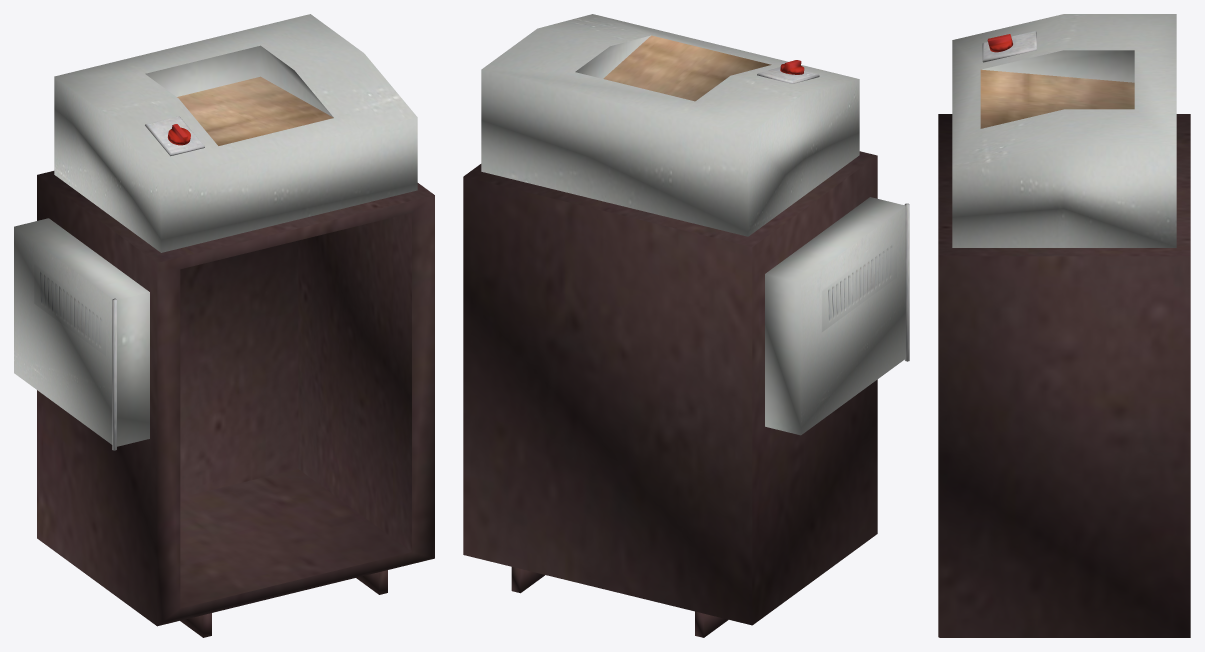
File: paperShredder.obj
3 renders of one model, left to right at view 1: azimuth 30°, elevation 25°; view 2: azimuth 150°, elevation 25°; view 3: azimuth 270°, elevation 25°, orthographic. The views are drawn at different scales.
Parts seen in each view (by area): view 1: paperShredder.obj; view 2: paperShredder.obj; view 3: paperShredder.obj.
Part boxes in pixels (bbox=[...]): paperShredder.obj: bbox=[14, 14, 434, 637]; paperShredder.obj: bbox=[463, 14, 909, 637]; paperShredder.obj: bbox=[938, 14, 1190, 637].
Bounding box in the file's own units: 13.62 × 20.13 × 9.
